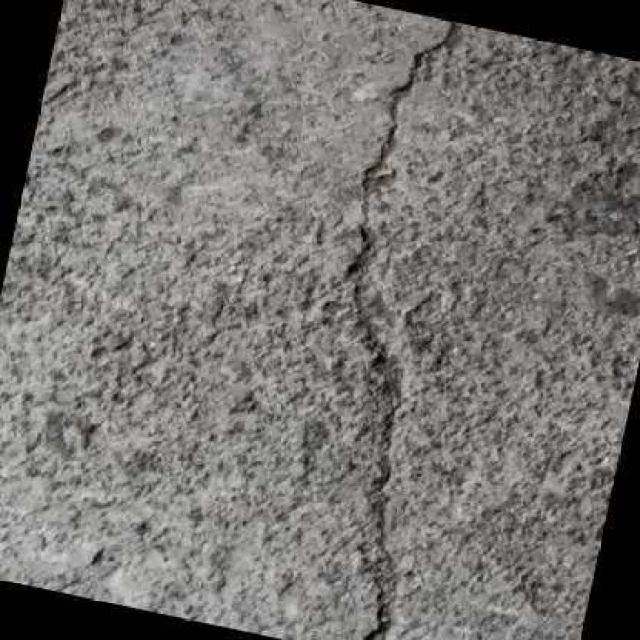D00: (342, 22, 461, 640)
